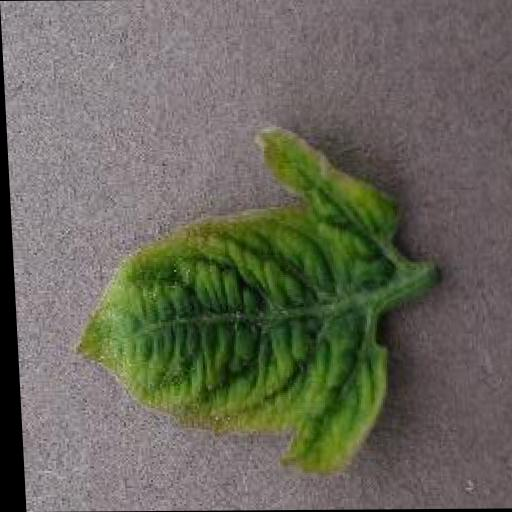Yellow Leaf Curl Virus: (59, 124, 415, 482)
